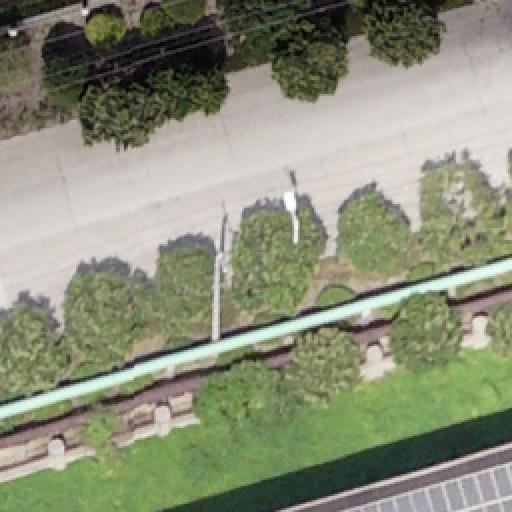solar-panel: (344, 460, 512, 512)
